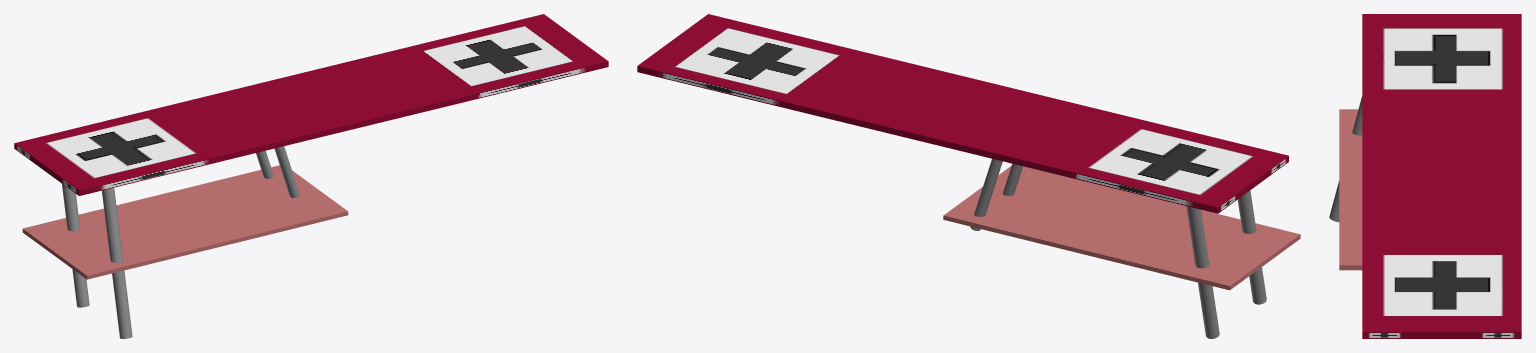
Rendered from debris31.fbx.
3 views of the same model, side by side, from view 1: azimuth 30°, elevation 25°; view 2: azimuth 150°, elevation 25°; view 3: azimuth 270°, elevation 25° (orthographic). The views are drawn at different scales.
Parts seen in each view (by area): view 1: Box06, Box07, Cylinder20, Cylinder21, Cylinder16; view 2: Box06, Box07, Cylinder21, Cylinder20, Cylinder17; view 3: Box06, Box07, Cylinder20.
Boxes of the visible parts, <box> form: Box06: <box>14,14,608,195</box>; Box07: <box>22,165,348,279</box>; Cylinder20: <box>102,187,132,338</box>; Cylinder21: <box>62,184,89,307</box>; Cylinder16: <box>274,146,299,197</box>; Box06: <box>637,14,1288,213</box>; Box07: <box>943,166,1300,290</box>; Cylinder21: <box>1186,206,1219,338</box>; Cylinder20: <box>1237,190,1266,304</box>; Cylinder17: <box>970,158,1002,230</box>; Box06: <box>1362,14,1521,338</box>; Box07: <box>1339,109,1362,270</box>; Cylinder20: <box>1329,96,1362,222</box>.
Bounding box in the file's own units: 3562 × 960 × 907.
3 materials, 1 textured.
